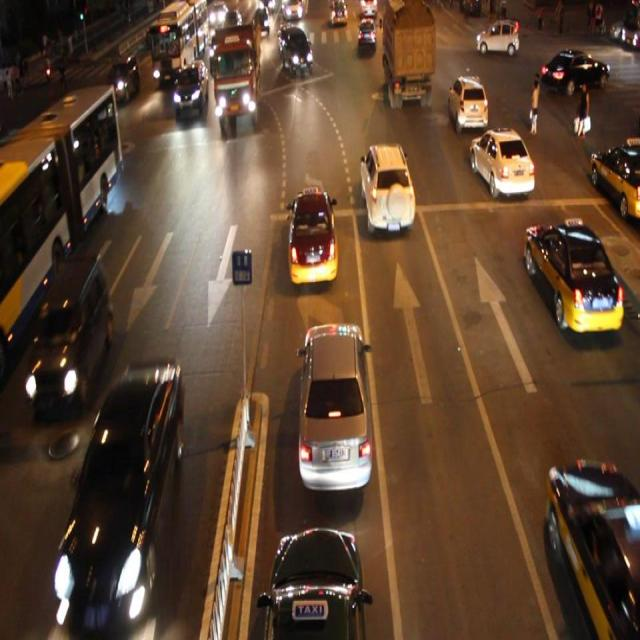bus: (383, 1, 433, 109), (212, 19, 260, 129)
car: (56, 361, 184, 622), (544, 460, 640, 640), (297, 319, 373, 495), (260, 526, 367, 640), (524, 220, 622, 331), (287, 188, 339, 284), (467, 125, 533, 199), (360, 142, 414, 229), (448, 74, 486, 132), (172, 61, 208, 117), (86, 90, 119, 140), (106, 56, 140, 104), (280, 28, 314, 75), (356, 18, 377, 50)
truck: (25, 256, 113, 407)
van: (0, 85, 124, 362), (150, 1, 207, 77)
